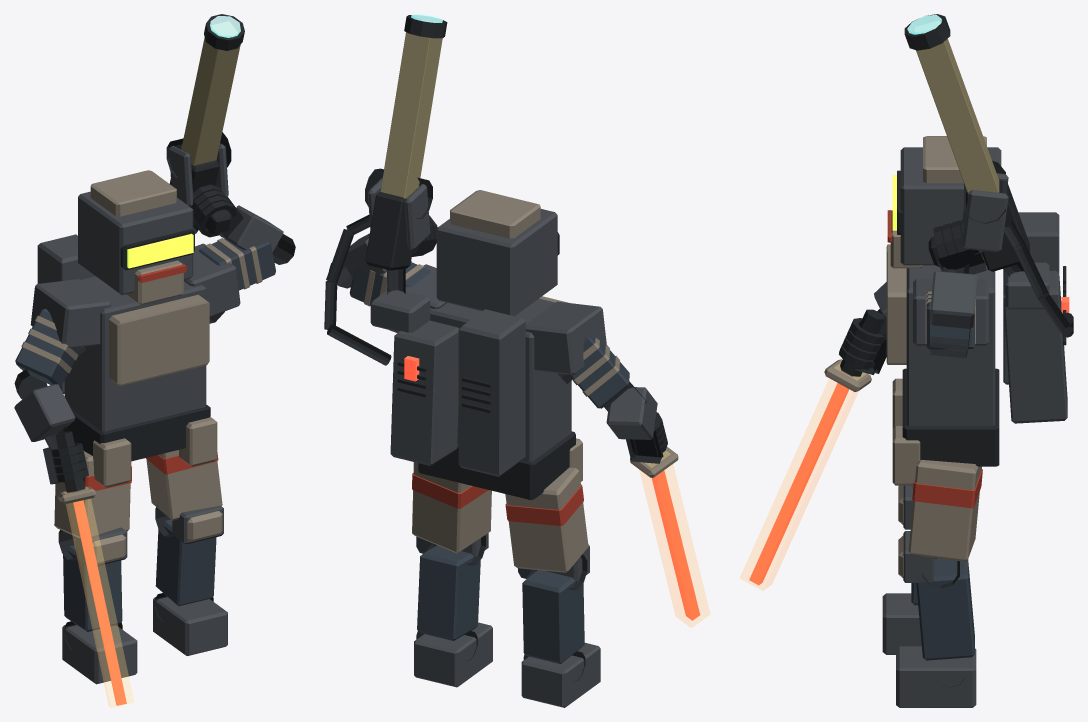
The model's file is vanguard-battle-v1.glb.
3 renders of one model, left to right at view 1: azimuth 30°, elevation 25°; view 2: azimuth 150°, elevation 25°; view 3: azimuth 270°, elevation 25°, orthographic. The views are drawn at different scales.
Visible parts, largest first — view 1: n2, n4, n18, n63, n40, n70, n48, n6, n72, n65, n80, n82 (+30 smaller); view 2: n12, n18, n14, n40, n63, n2, n70, n75, n80, n48, n65, n6 (+18 smaller); view 3: n2, n63, n14, n40, n65, n18, n70, n72, n6, n62, n32, Cannon fork 1 (+19 smaller).
Part boxes in pixels (x1,y1,x2,y2): n2: [64, 276, 206, 431]; n4: [109, 294, 209, 386]; n18: [78, 191, 193, 294]; n63: [63, 487, 133, 707]; n40: [181, 25, 240, 165]; n70: [155, 519, 216, 606]; n48: [30, 279, 111, 348]; n6: [66, 404, 210, 461]; n72: [153, 597, 227, 655]; n65: [146, 450, 222, 520]; n80: [63, 545, 122, 631]; n82: [62, 625, 137, 684]; n12: [458, 309, 525, 476]; n18: [436, 209, 557, 316]; n14: [390, 320, 458, 465]; n40: [380, 32, 442, 198]; n63: [639, 451, 710, 627]; n2: [430, 298, 571, 461]; n70: [417, 545, 480, 640]; n75: [505, 467, 588, 572]; n80: [522, 570, 584, 663]; n48: [525, 301, 606, 374]; n65: [412, 462, 491, 553]; n6: [418, 431, 575, 499]; n2: [906, 265, 995, 426]; n63: [740, 363, 865, 590]; n14: [1003, 270, 1067, 423]; n40: [913, 22, 999, 193]; n65: [908, 460, 981, 561]; n18: [900, 147, 1001, 265]; n70: [916, 558, 974, 660]; n72: [896, 646, 976, 707]; n6: [902, 368, 999, 466]; n62: [749, 383, 849, 585]; n32: [929, 271, 977, 328]; Cannon fork 1: [961, 190, 1008, 252].
Bounding box in the file's own units: 0.9195 × 1.91 × 0.8321.
